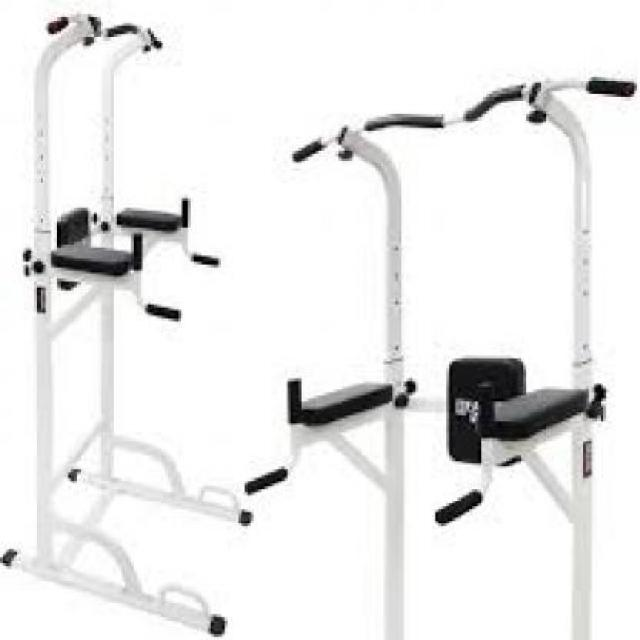chinning dipping: (241, 71, 634, 640), (0, 12, 252, 638)
